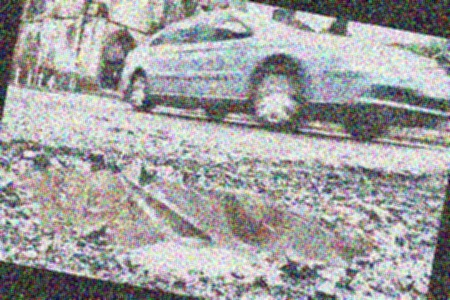pothole: (0, 117, 401, 300)
